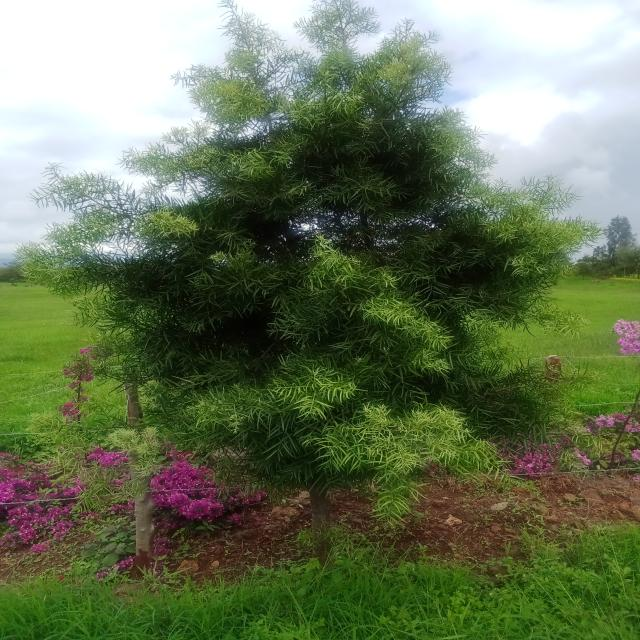Podocarpus falcatus: (34, 0, 588, 530)
